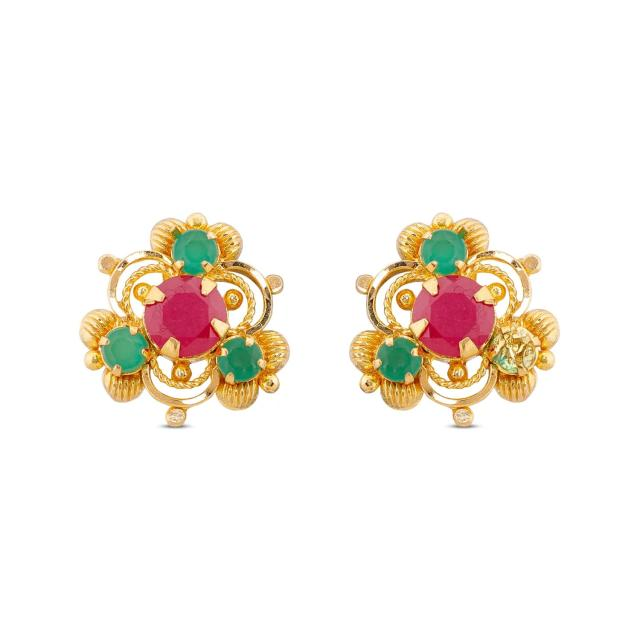missing gem: (495, 327, 537, 370)
